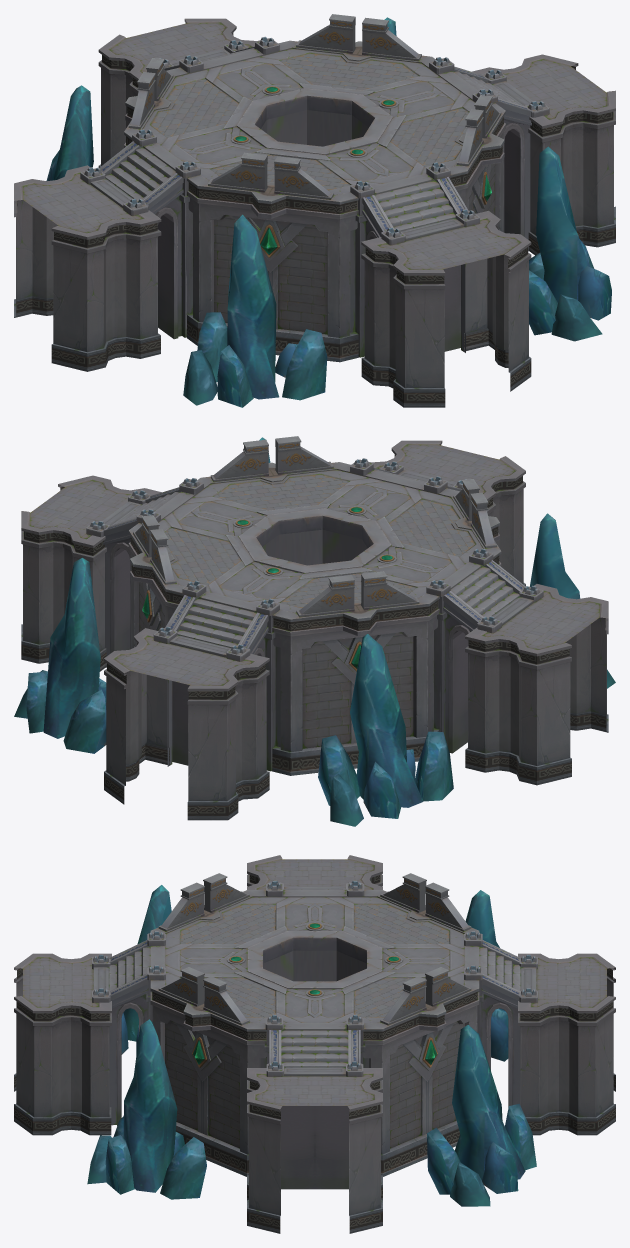
Rendered from scene_feicuizhita_tanei01.FBX.
3 renders of one model, top to bottom at view 1: azimuth 30°, elevation 25°; view 2: azimuth 150°, elevation 25°; view 3: azimuth 270°, elevation 25°, orthographic. The views are drawn at different scales.
Visible parts, largest first — view 1: scene_feicuizhita_tanei01; view 2: scene_feicuizhita_tanei01; view 3: scene_feicuizhita_tanei01.
Part boxes in pixels (<box>): scene_feicuizhita_tanei01: <box>14,14,615,407</box>; scene_feicuizhita_tanei01: <box>14,436,615,826</box>; scene_feicuizhita_tanei01: <box>14,855,615,1233</box>.
Size of the model in its own units: 3465 by 1172 by 3465.
